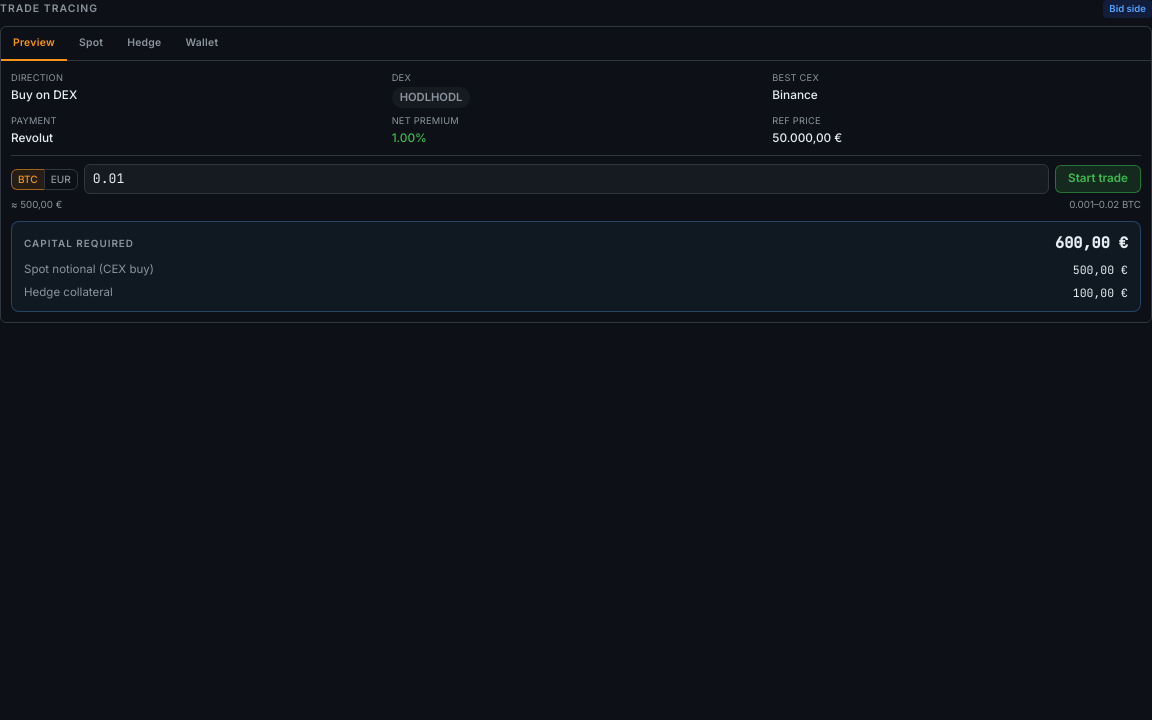
TradeTracingPanel trade errors › warns that an unanswered submission may still have started
This screenshot has width=1152, height=720.
Step 1. Click the button "Start trade" → point(1098, 179), box [1055,166,1141,193]
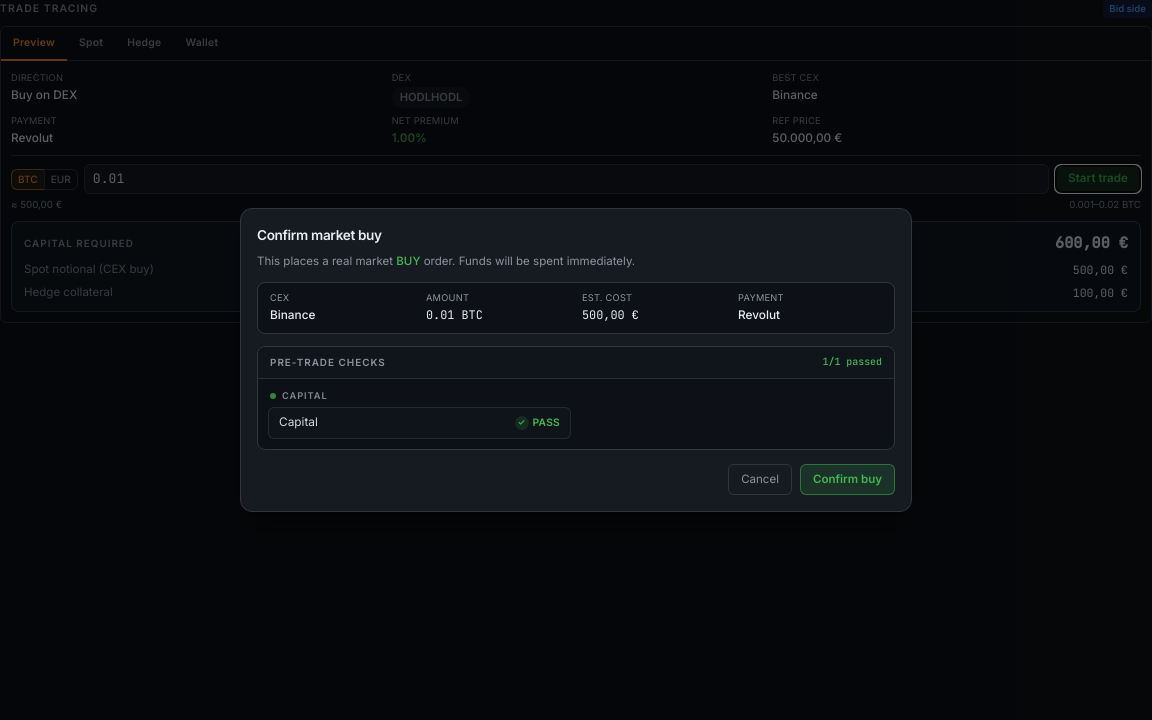
Step 2. Click the button "Confirm buy" → point(847, 479), box [800,464,895,495]
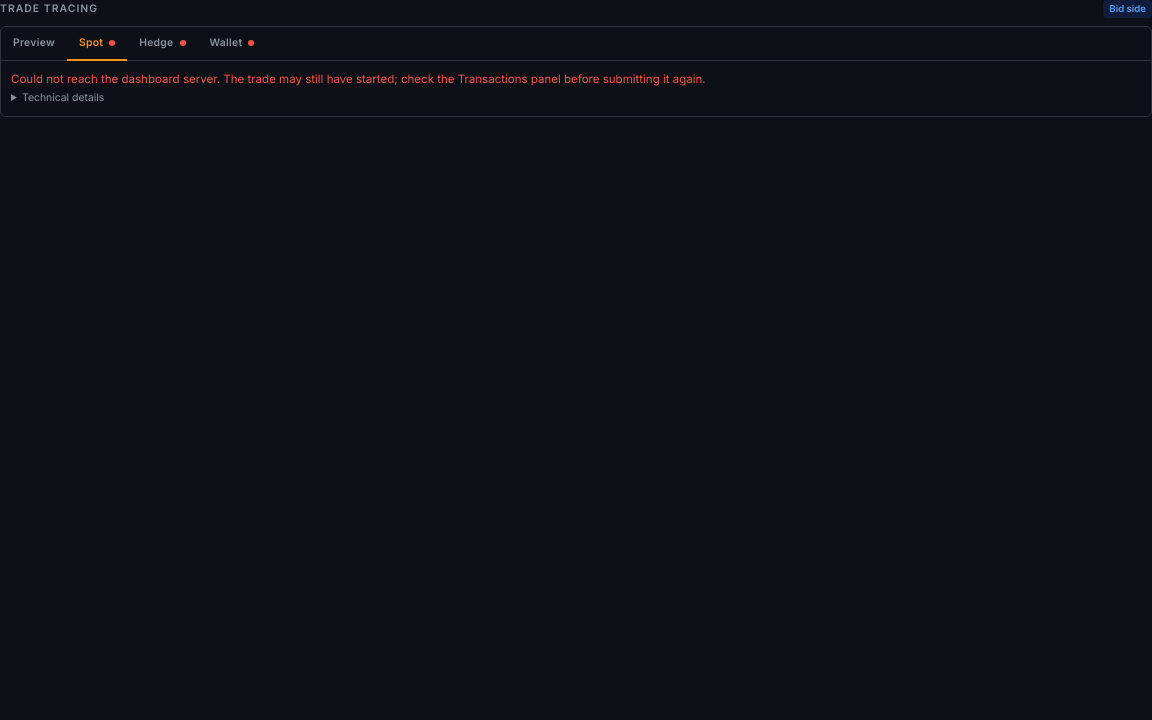
Expected: the text "The trade may still have started; check the Transactions panel" is shown, [11,72,706,86]
